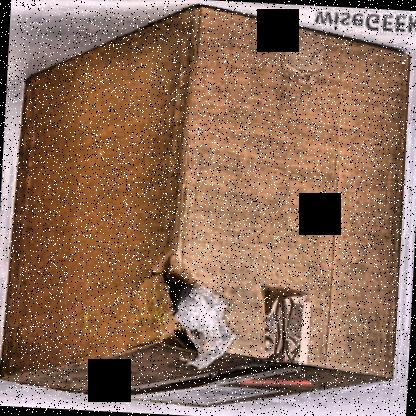defect parcel: (121, 236, 247, 371)
